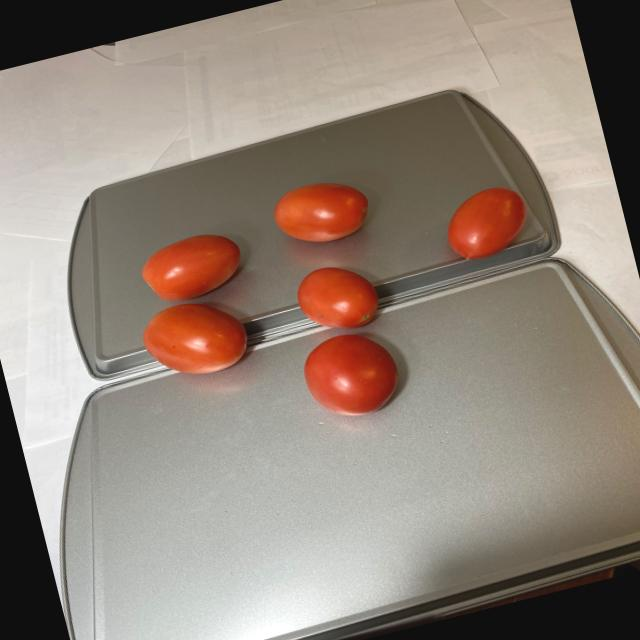tomato: (117, 132, 568, 464)
